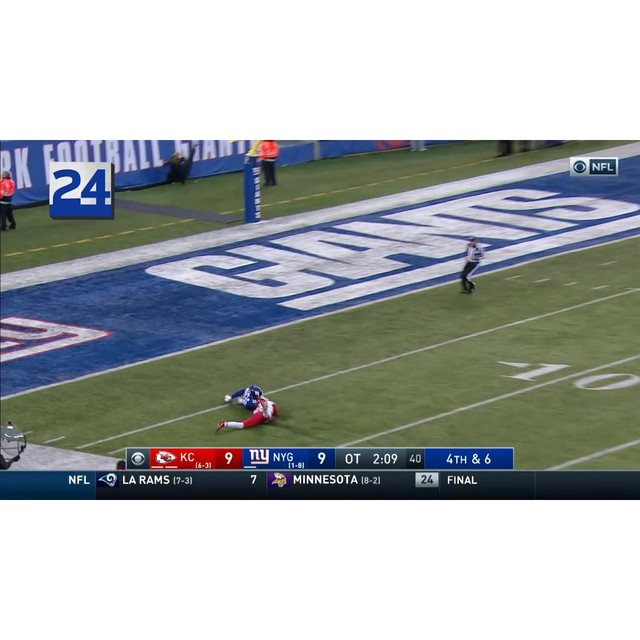american-football-player: (212, 386, 277, 434)
referee: (457, 237, 486, 296), (0, 418, 30, 471)
